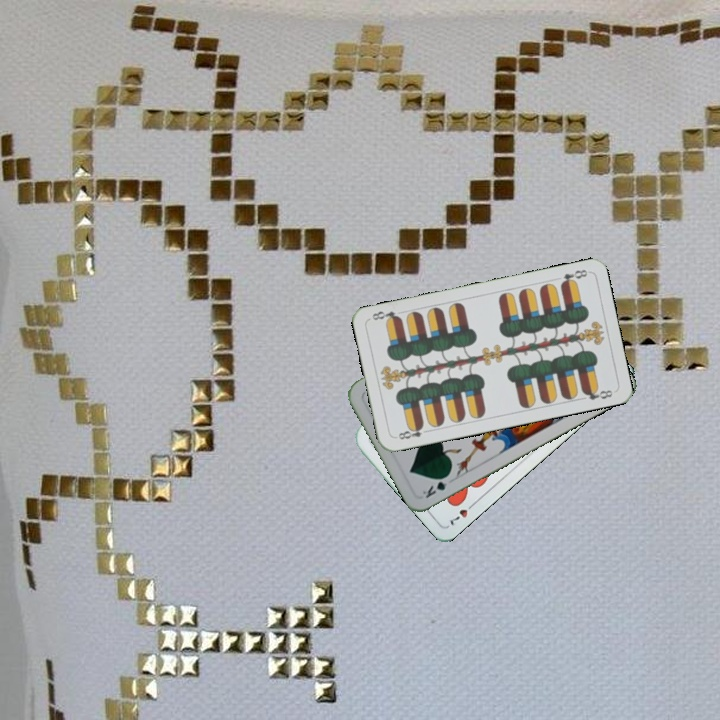E8: (391, 421, 432, 442), (557, 265, 590, 288)
GK: (418, 470, 453, 501)
H7: (446, 498, 478, 528)
